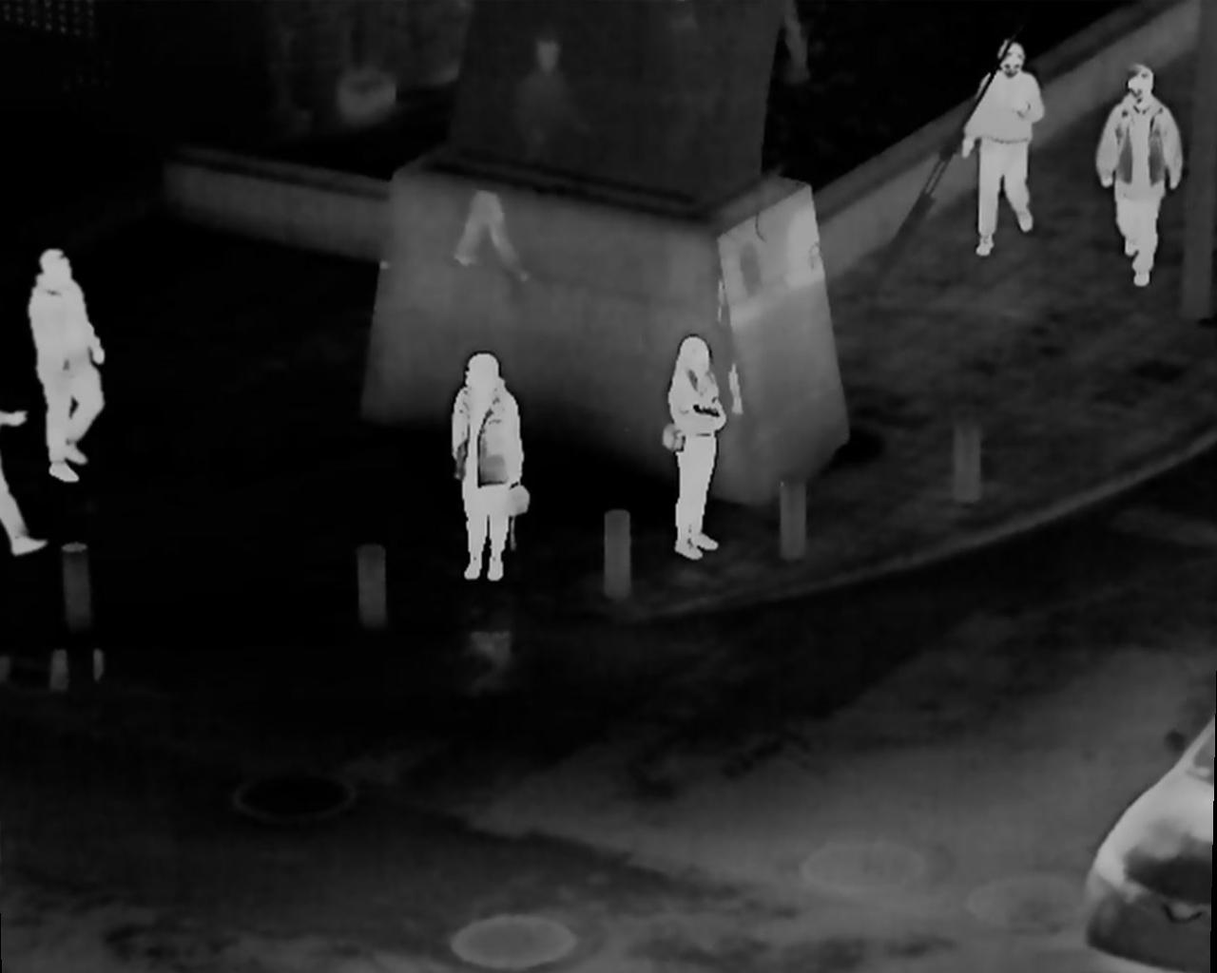person: (441, 351, 531, 583), (1094, 58, 1182, 294), (658, 332, 742, 560), (959, 42, 1043, 262), (25, 249, 106, 476)
